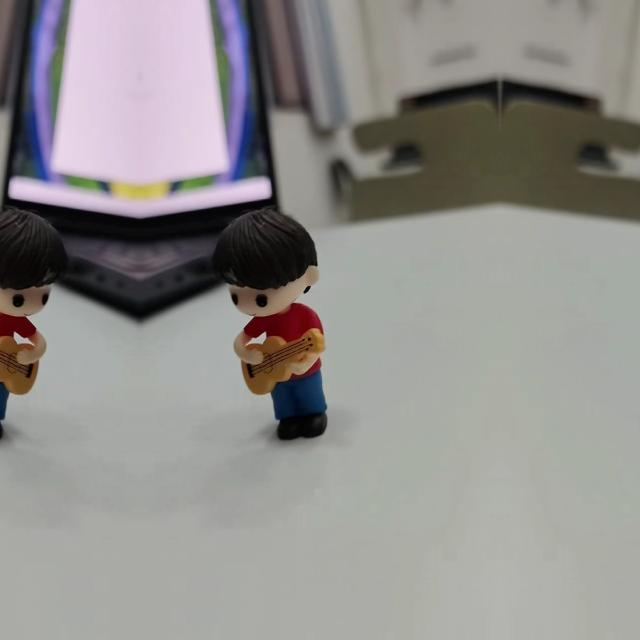man cloth: (244, 311, 330, 343), (0, 311, 35, 343)
man head: (207, 208, 325, 316), (0, 207, 73, 316)
trousers: (270, 378, 332, 444), (0, 378, 10, 443)
